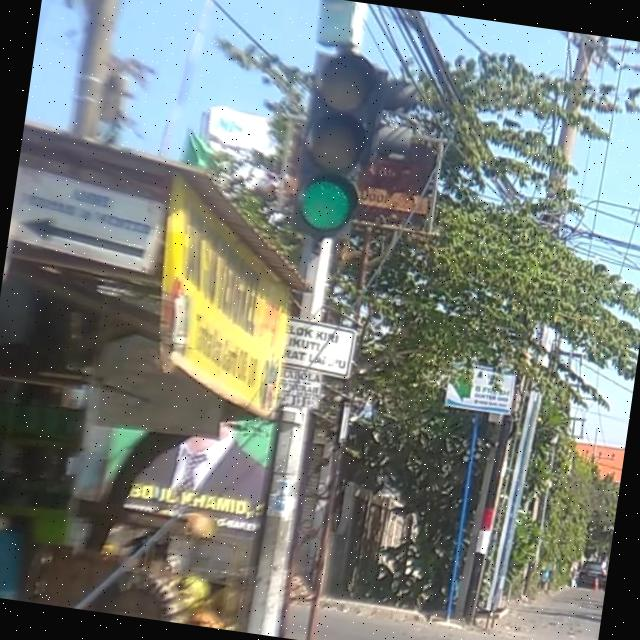green_light: (292, 48, 379, 241)
